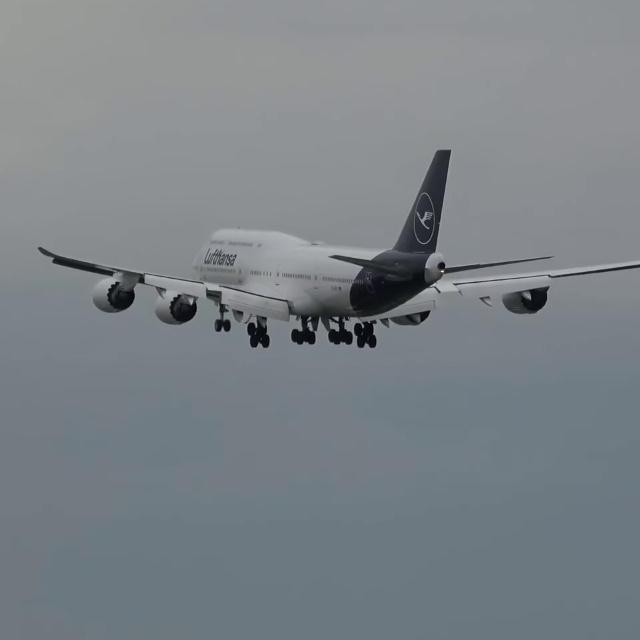airplane: (28, 137, 640, 357)
